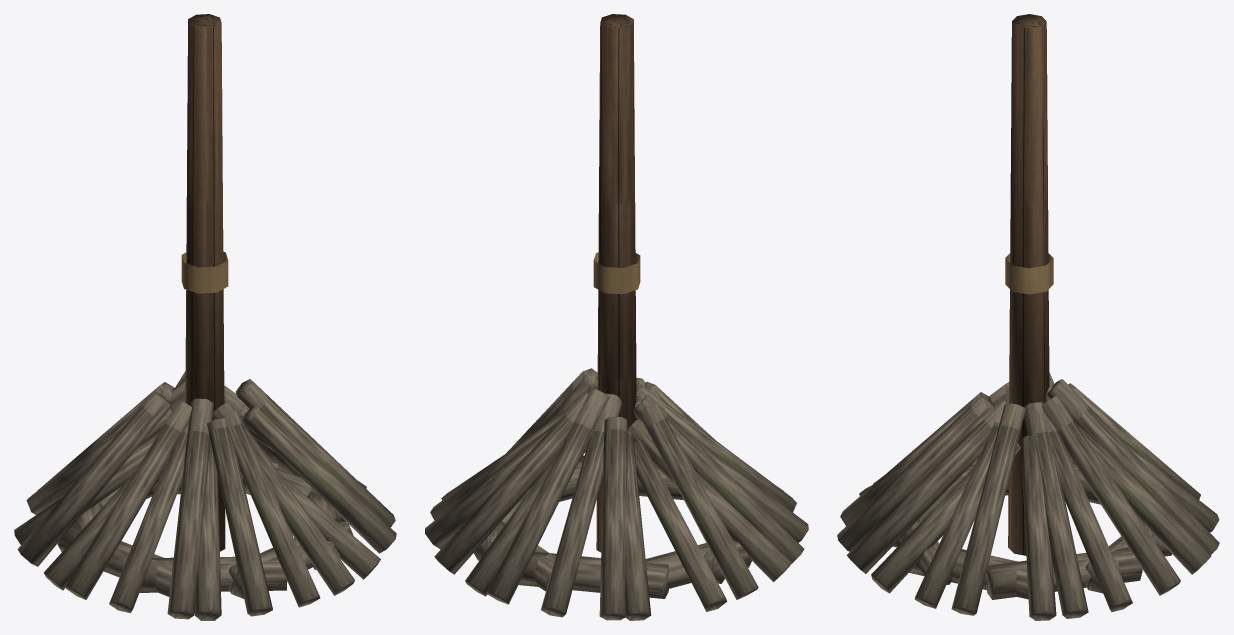
Rendered from Pyre_Stake_1.gltf.
The picture shows the model from 3 angles, left to right: view 1: azimuth 30°, elevation 25°; view 2: azimuth 150°, elevation 25°; view 3: azimuth 270°, elevation 25°; orthographic projection.
Parts seen in each view (by area): view 1: Pyre_Stake_1; view 2: Pyre_Stake_1; view 3: Pyre_Stake_1.
Part boxes in pixels (bbox=[...]): Pyre_Stake_1: bbox=[14, 14, 396, 620]; Pyre_Stake_1: bbox=[425, 14, 808, 620]; Pyre_Stake_1: bbox=[837, 14, 1219, 620].
Bounding box in the file's own units: 1.98 × 3 × 1.98.
Materials: 3 (3 with a texture image).
